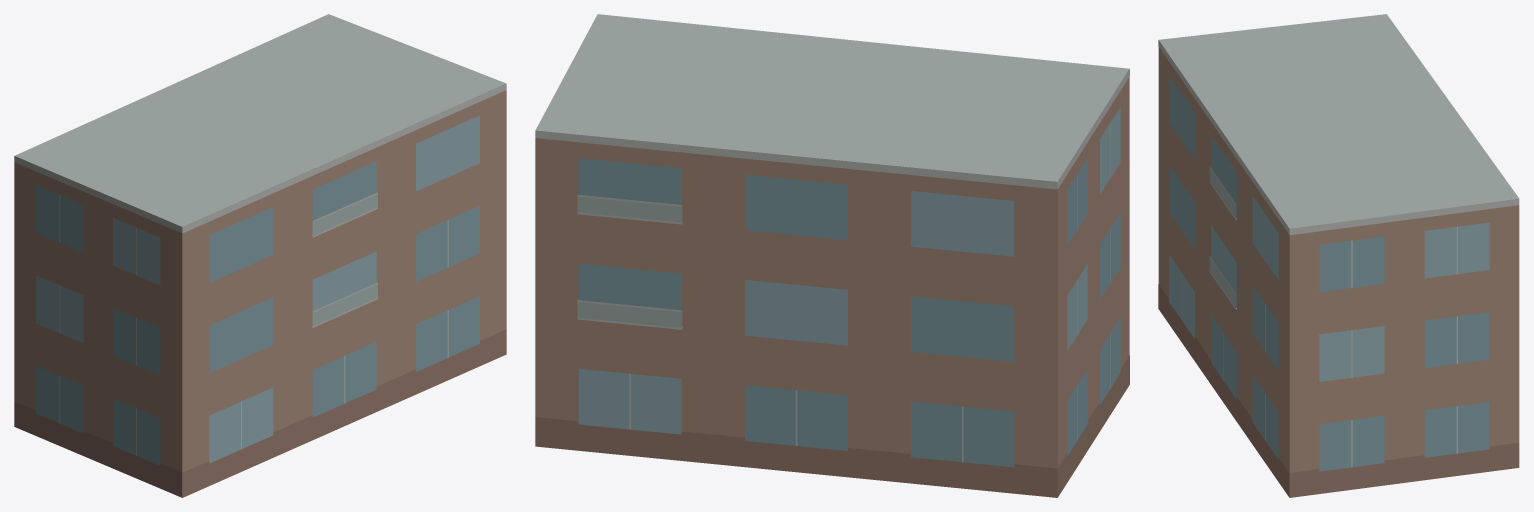
File: survey-upis-32597360.glb
The picture shows the model from 3 angles, left to right: view 1: azimuth 30°, elevation 25°; view 2: azimuth 150°, elevation 25°; view 3: azimuth 270°, elevation 25°; orthographic projection. The views are drawn at different scales.
Visible parts, largest first — view 1: survey-upis-32597360.tmp; view 2: survey-upis-32597360.tmp; view 3: survey-upis-32597360.tmp.
Part boxes in pixels (left/top/right/bottom): survey-upis-32597360.tmp: left=14, top=14, right=506, bottom=497; survey-upis-32597360.tmp: left=535, top=14, right=1129, bottom=497; survey-upis-32597360.tmp: left=1158, top=14, right=1519, bottom=497.
Bounding box in the file's own units: 17.48 × 10.2 × 12.41.
